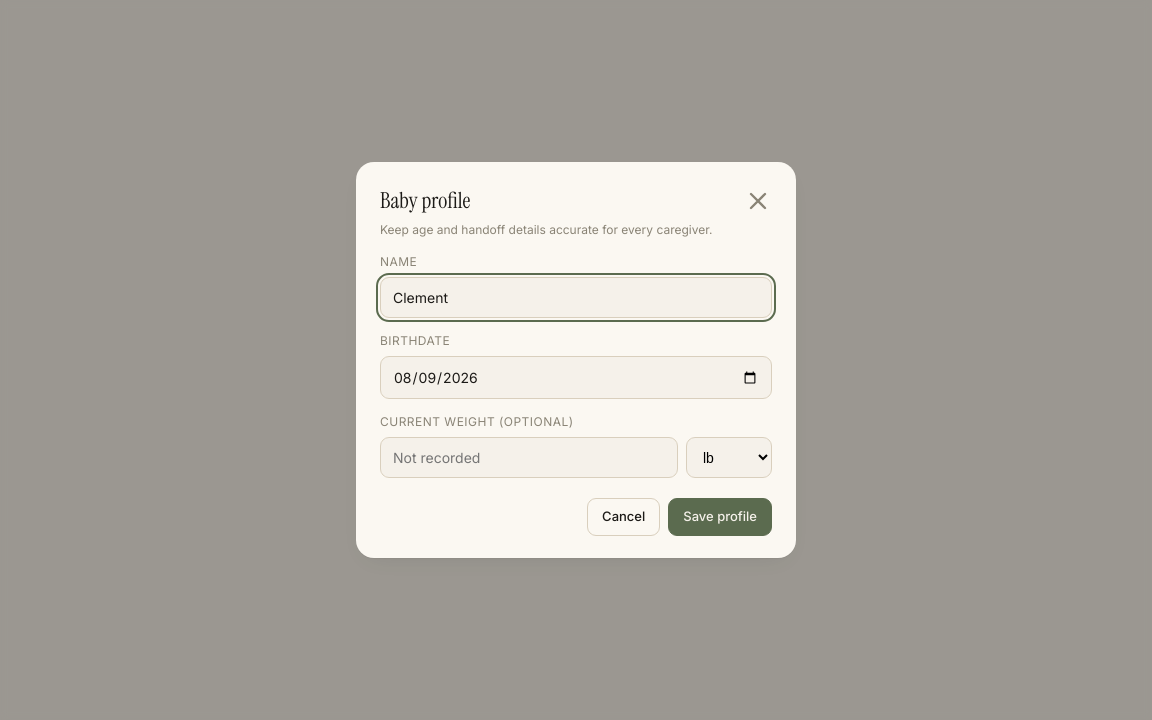
Test: BabyProfileModal › keeps edits and blocks dismissal while a save is in progress
Clear the field labelled "Name" at {"x": 576, "y": 298}, box [380, 277, 772, 318]
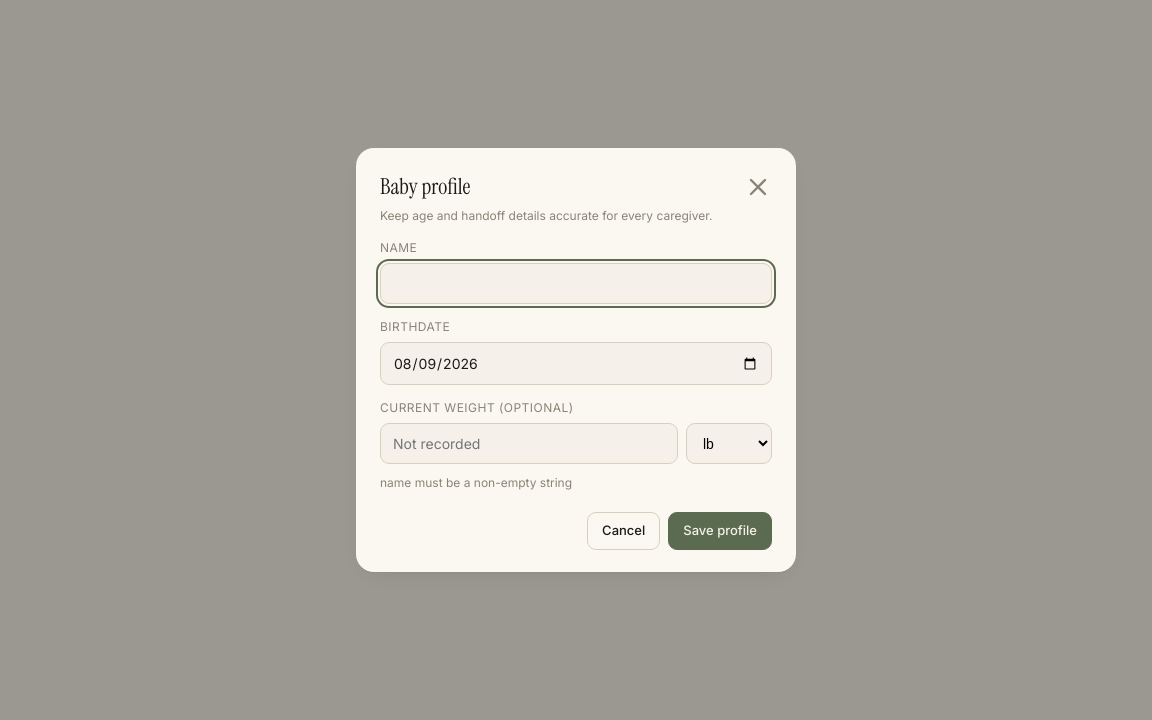
Type "Clemmie" into the field labelled "Name".
click(576, 284); type("Clemmie")  # box [380, 263, 772, 304]
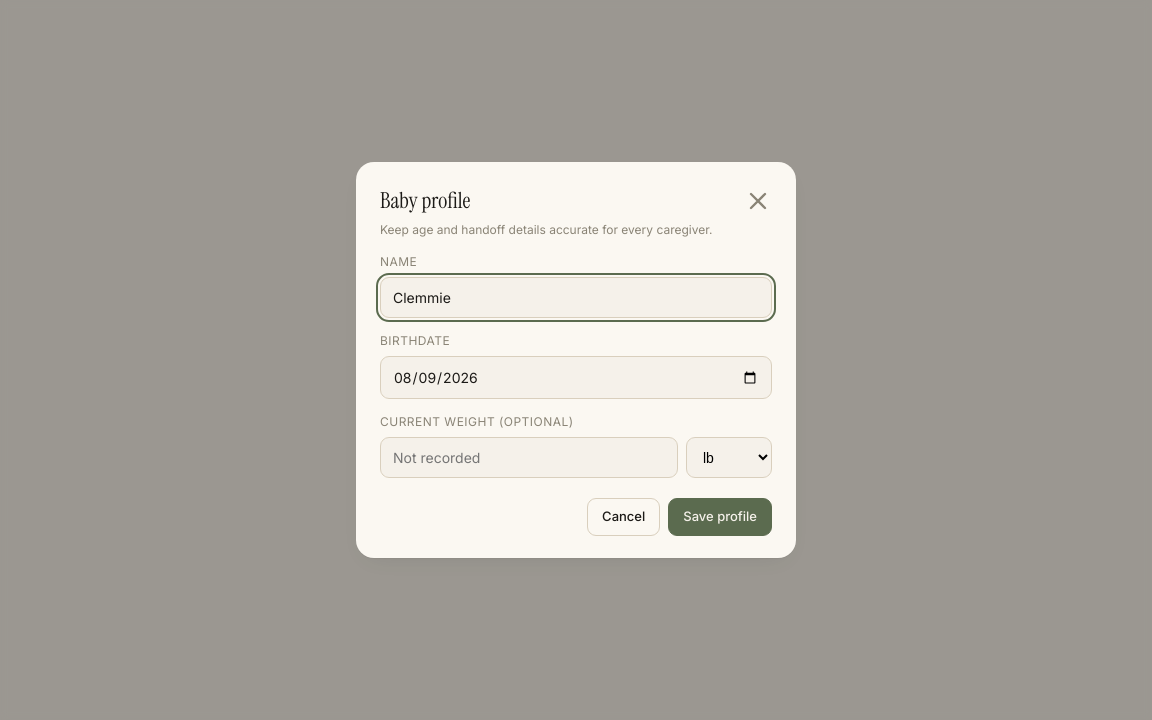
Click the button "Save profile".
click(720, 517)  # box [668, 498, 772, 536]
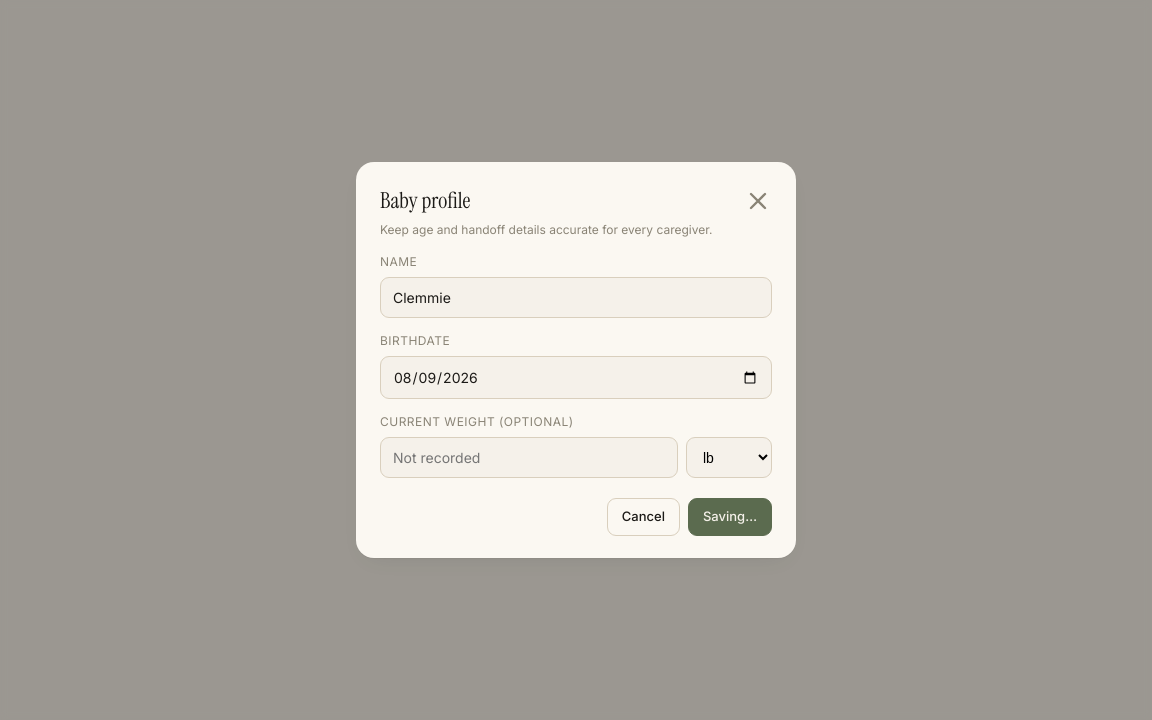
Press the mouse on the element that starts with "Baby profile" at {"x": 576, "y": 360}, box [0, 0, 1151, 719]
Press Escape in the dialog, box [356, 162, 796, 558]
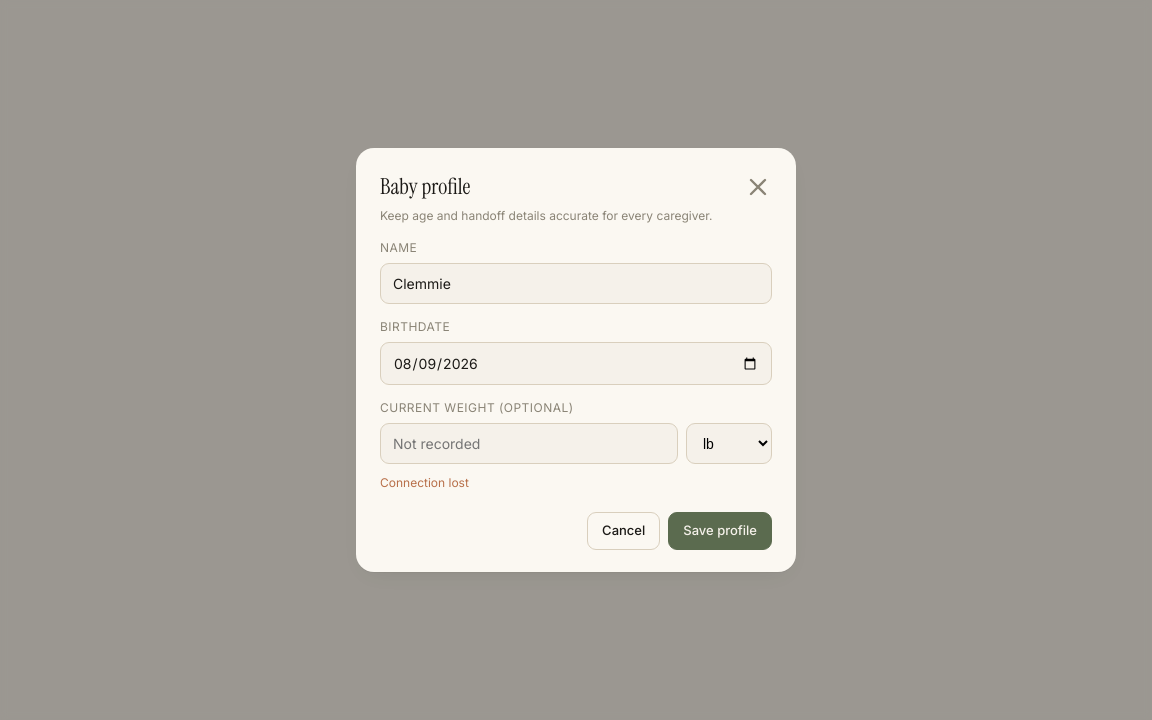
Expected: the message reads "Connection lost", [380, 475, 469, 490]
